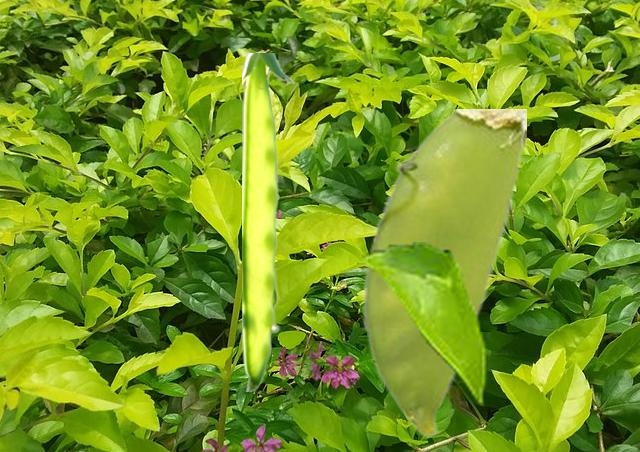pea: (362, 109, 525, 436), (242, 53, 294, 390)
